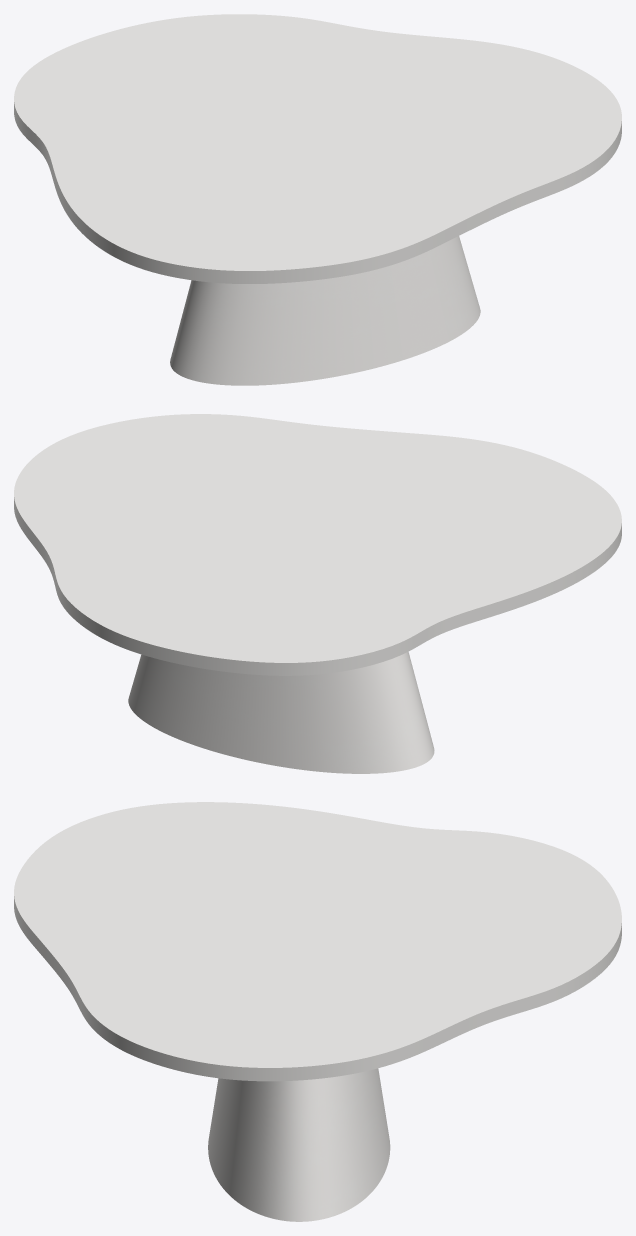
Rendered from purewhite_topone_standard_eqone.glb.
3 renders of one model, top to bottom at view 1: azimuth 30°, elevation 25°; view 2: azimuth 150°, elevation 25°; view 3: azimuth 270°, elevation 25°, orthographic. The views are drawn at different scales.
Visible parts, largest first — view 1: standard_topone, eqone; view 2: standard_topone, eqone; view 3: standard_topone, eqone.
Boxes of the visible parts, <box> form: standard_topone: <box>14,14,621,283</box>; eqone: <box>170,236,480,385</box>; standard_topone: <box>14,414,621,675</box>; eqone: <box>128,651,434,773</box>; standard_topone: <box>14,802,621,1081</box>; eqone: <box>208,1068,390,1221</box>.
Bounding box in the file's own units: 6.83 × 2.5 × 6.6.
1 material, 1 textured.
